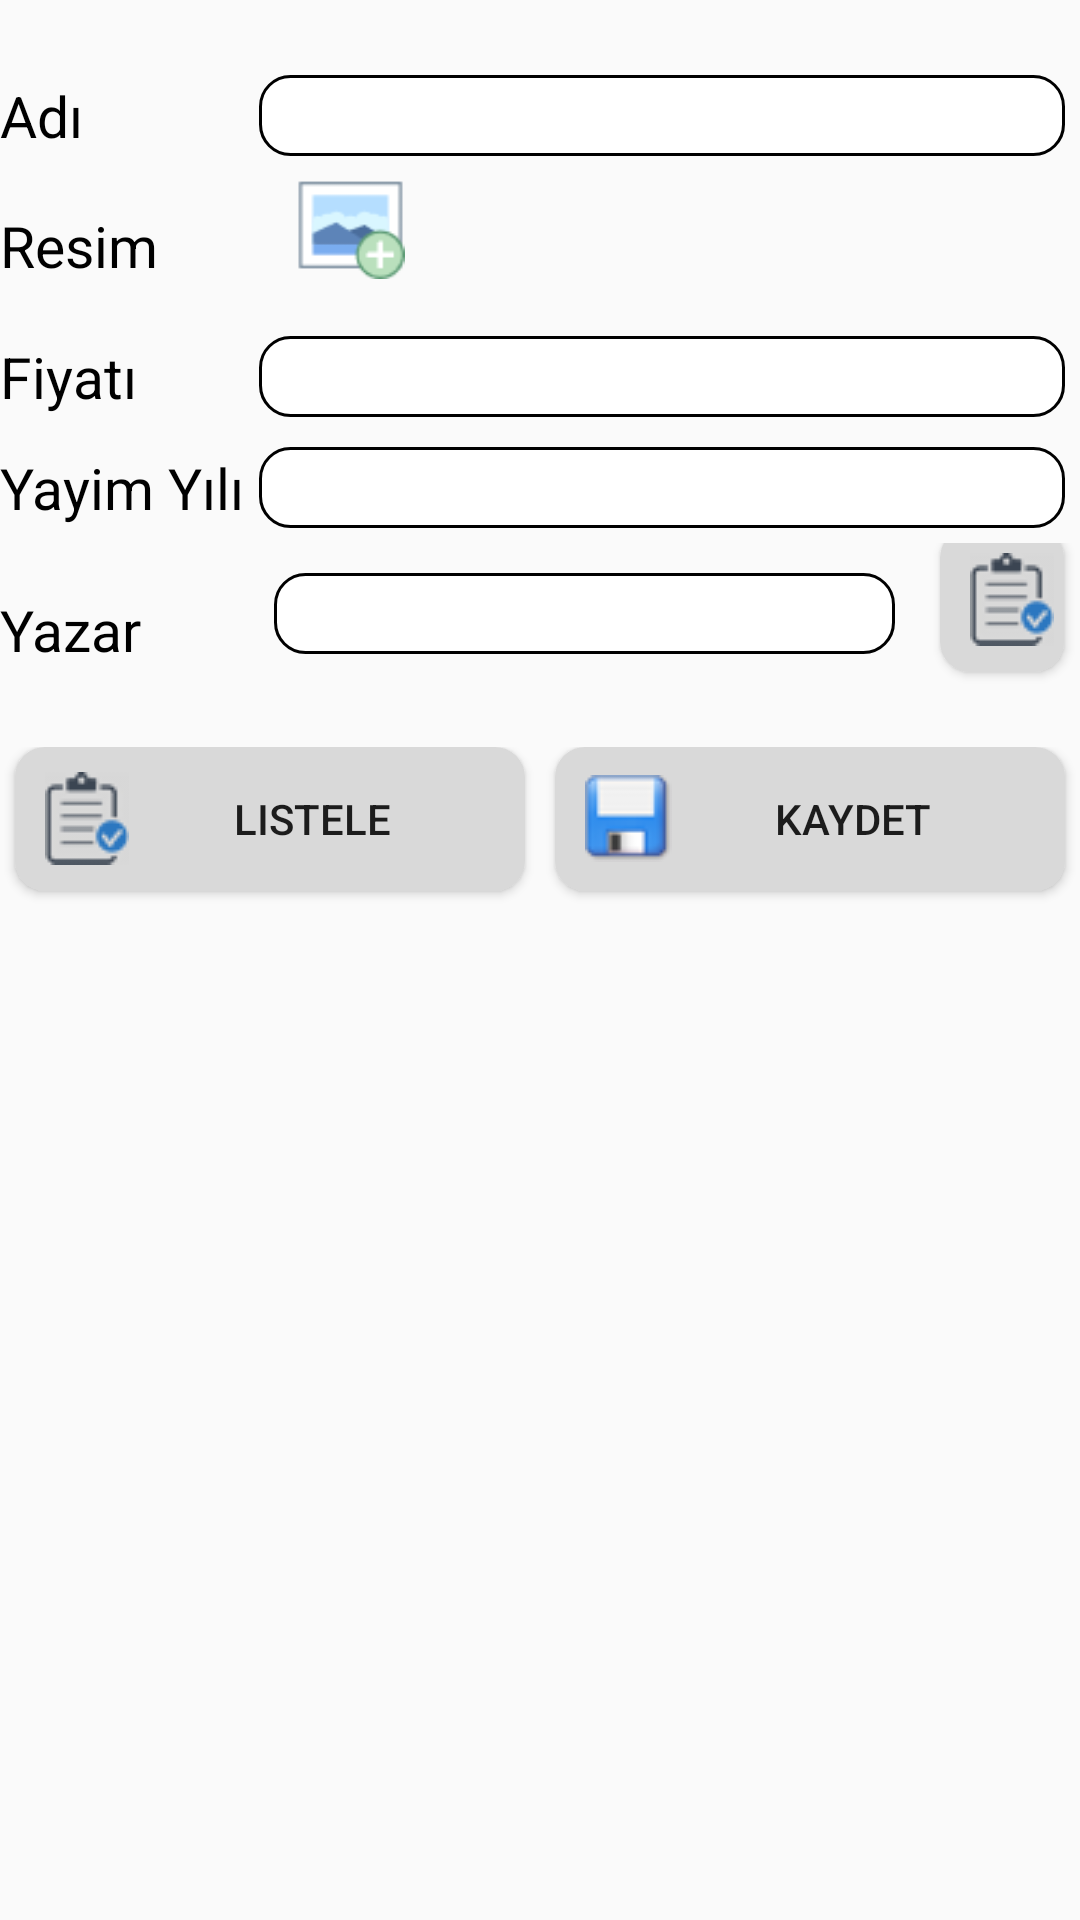

Named icons in this screenshot (1080×1920) and their centers, (x,y):
add: (351,230)
